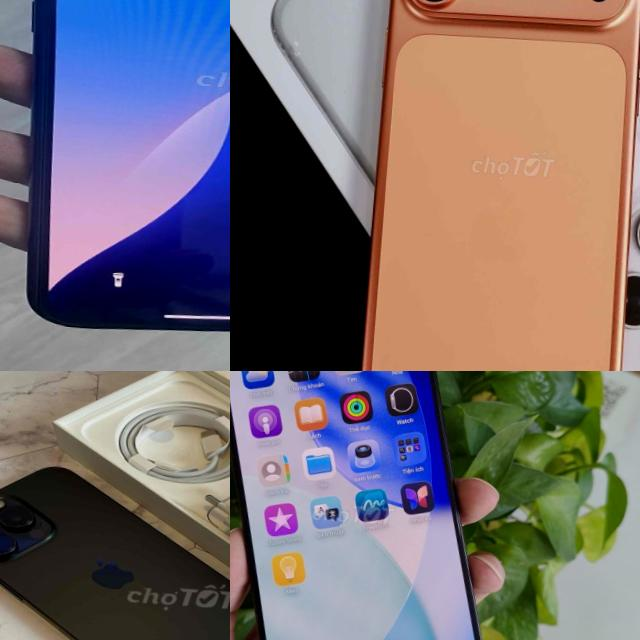gen_11: (0, 0, 230, 356)
gen_15: (230, 371, 521, 640), (0, 450, 230, 640)
gen_17: (355, 0, 640, 371)
